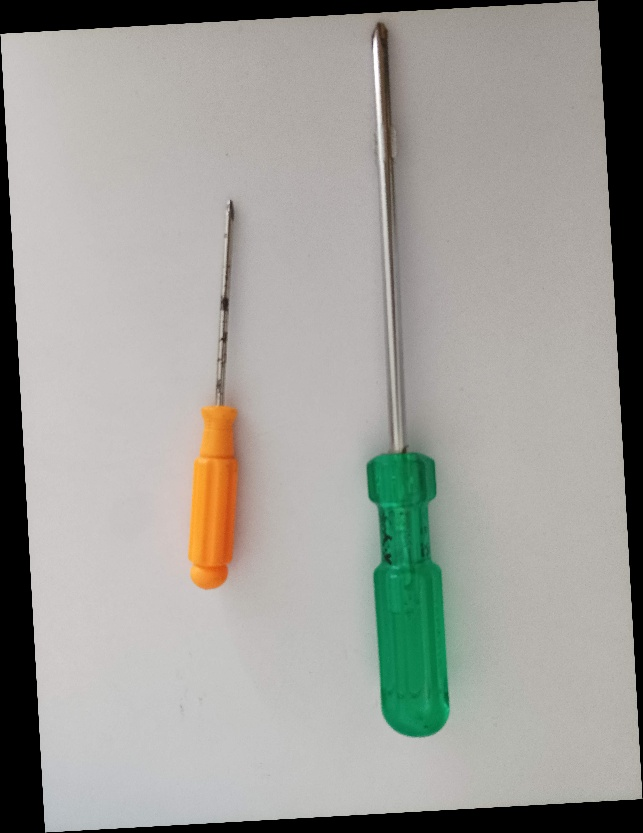screwdriver: (361, 17, 452, 739), (184, 195, 239, 593)
